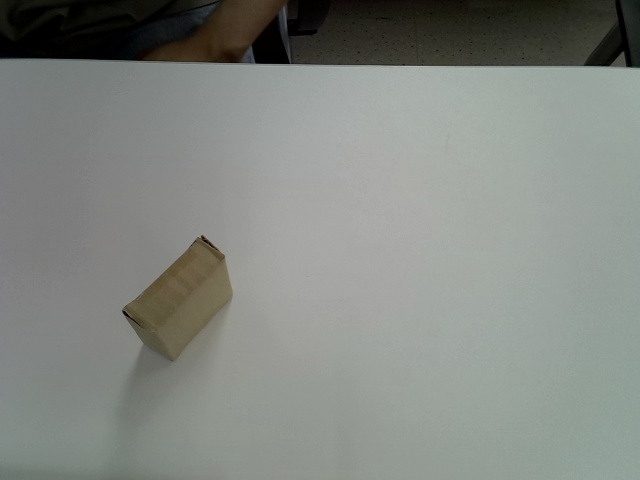normal: (122, 235, 234, 362)
